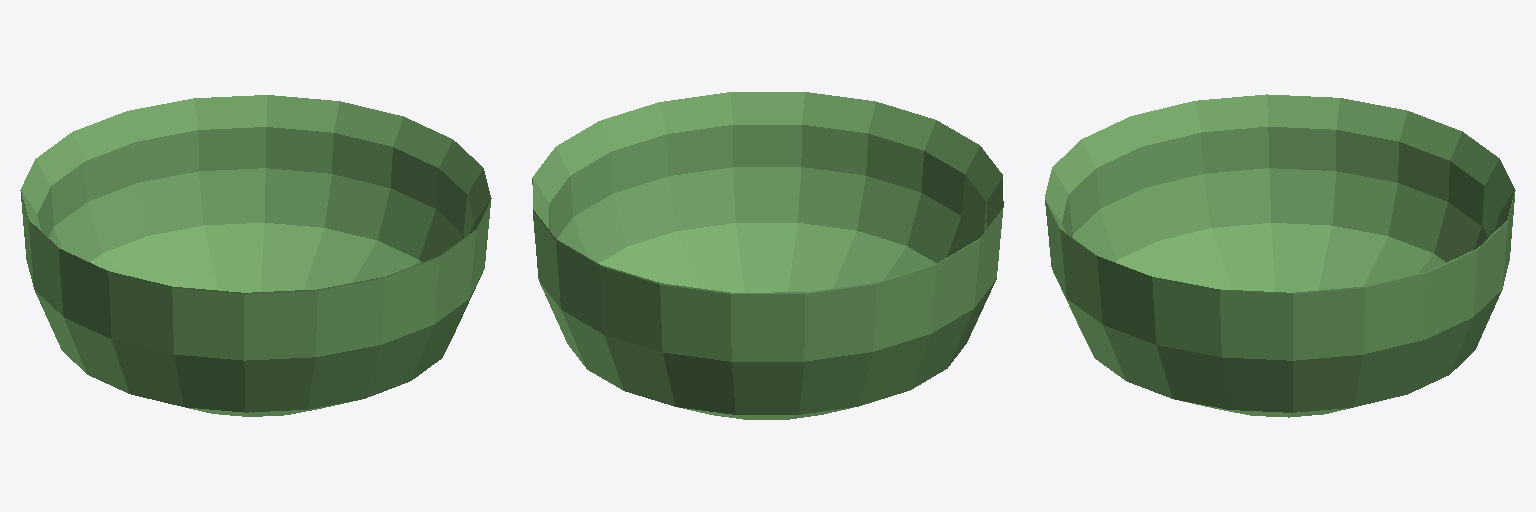
The robot description file, URDF, robot "bowl":
<robot name="bowl">
  <link name="bowl">
    <collision>
      <geometry>
        <mesh filename="bowl.stl" scale="1.3 1.3 1.3"/>
      </geometry>
    </collision>
    <visual>
      <material name="dull green">
        <color rgba="0.5 0.7 0.45 1.0" />
      </material>
      <geometry>
        <mesh filename="bowl.stl" scale="1.3 1.3 1.3"/>
      </geometry>
    </visual>
  </link>
</robot>

--- Facts derived from the render (not from the file) ---
3 views of the same robot in one strip: view 1: azimuth 30°, elevation 25°; view 2: azimuth 150°, elevation 25°; view 3: azimuth 270°, elevation 25° (orthographic).
Model bowl with 1 links and 0 joints (none), rooted at bowl, posed every joint at zero.
Links seen in each view (by area): view 1: bowl; view 2: bowl; view 3: bowl.
Link boxes in pixels (left/top/right/bottom): bowl: left=20, top=95, right=491, bottom=416; bowl: left=532, top=92, right=1003, bottom=419; bowl: left=1045, top=94, right=1515, bottom=417.
Size in the robot's own frame: 0.2137 by 0.2145 by 0.0913 metres.
1 mesh visuals loaded from 1 distinct referenced files (1 binary STL).